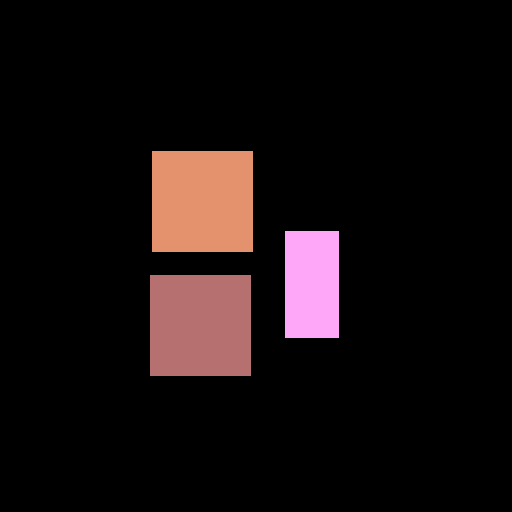rectangle: (285, 231, 338, 337)
square: (150, 275, 250, 375), (152, 151, 252, 251)
